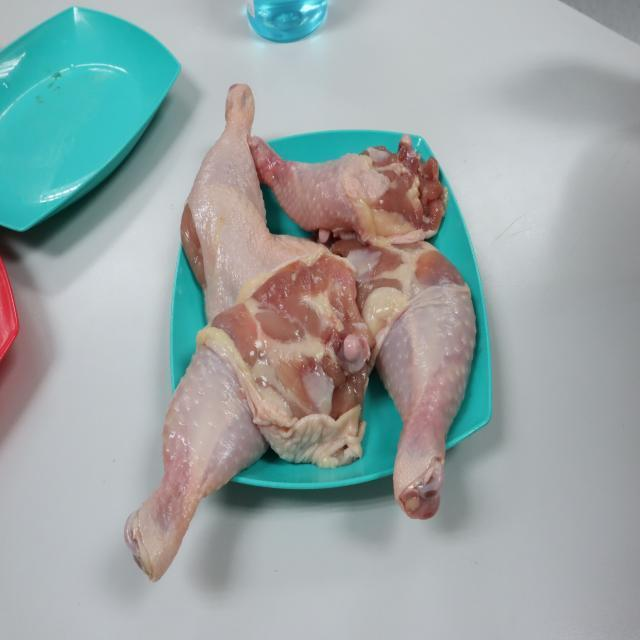quater: (132, 266, 356, 568), (168, 80, 314, 323), (347, 250, 479, 514), (246, 128, 447, 245)
